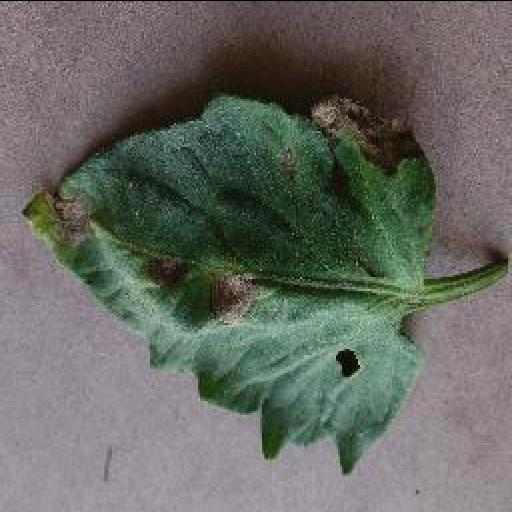disease_tomato: (18, 81, 438, 474)
